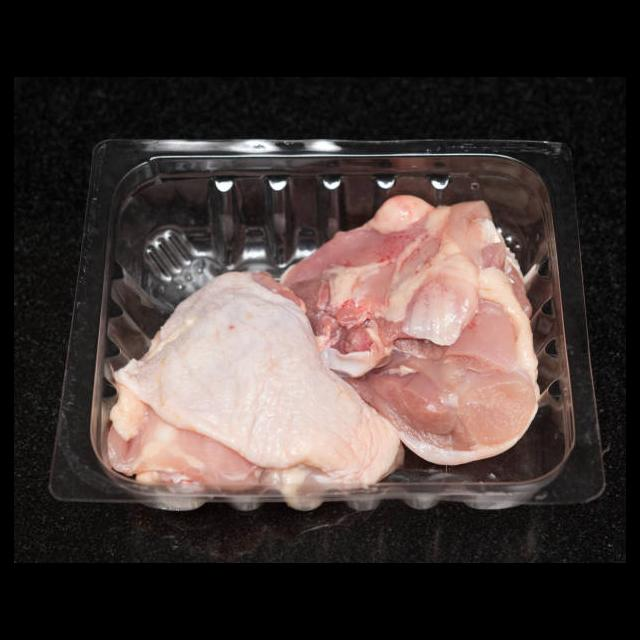chicken: (100, 268, 407, 510), (279, 194, 544, 467)
